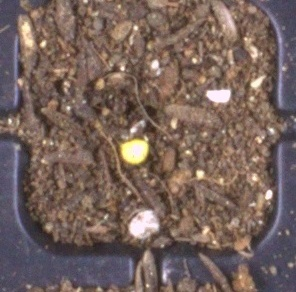chilli seed: (120, 139, 149, 165)
